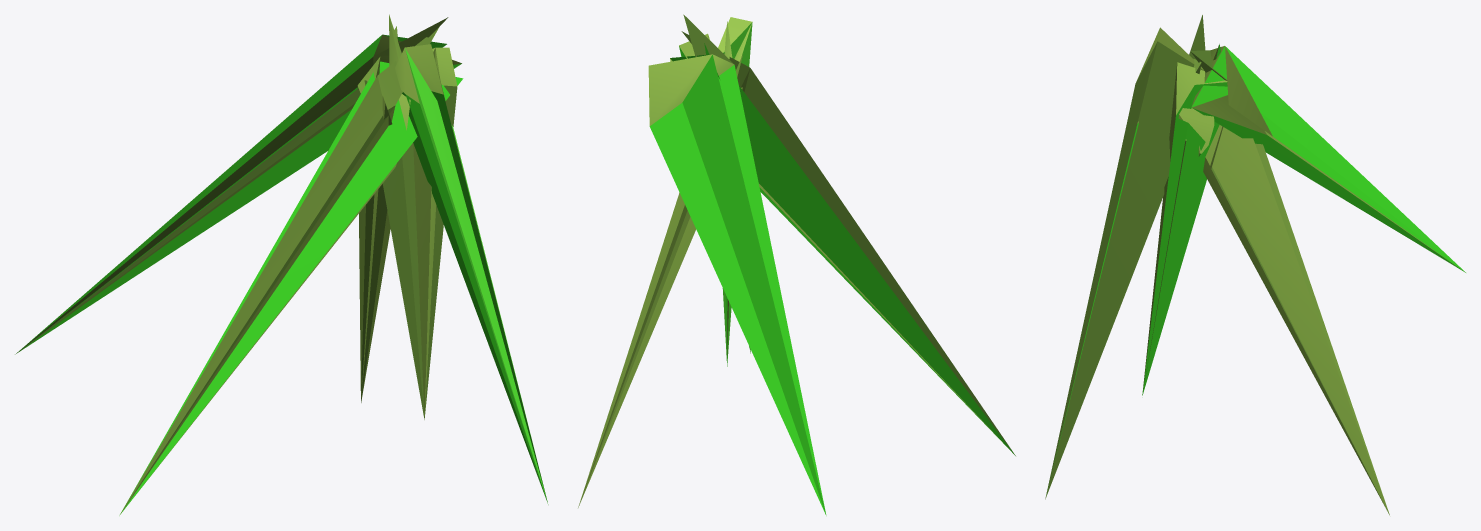
The model's file is plant.fbx.
3 renders of one model, left to right at view 1: azimuth 30°, elevation 25°; view 2: azimuth 150°, elevation 25°; view 3: azimuth 270°, elevation 25°, orthographic. The views are drawn at different scales.
Visible parts, largest first — view 1: Grass; view 2: Grass; view 3: Grass.
Part boxes in pixels (x1,y1,x2,y2): Grass: [15, 14, 548, 515]; Grass: [578, 14, 1015, 515]; Grass: [1045, 15, 1465, 515].
Bounding box in the file's own units: 1755 × 2150 × 1747.
